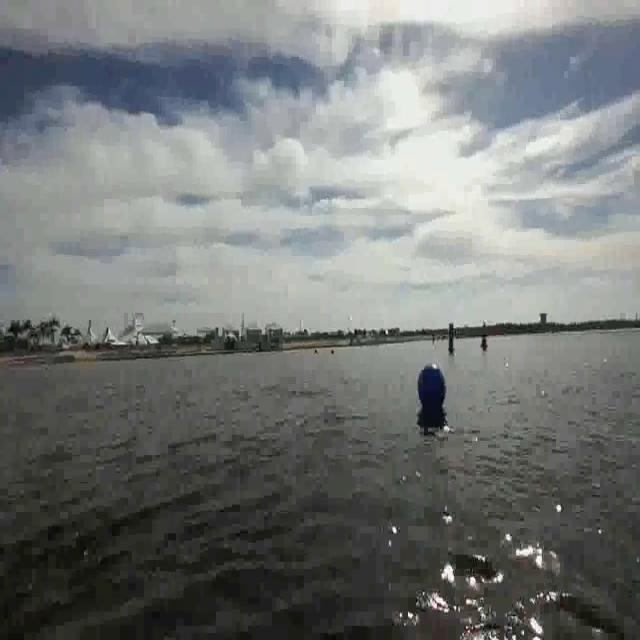blue-buoy: (418, 362, 446, 411)
green-column-buoy: (448, 324, 457, 354)
red-column-buoy: (482, 320, 489, 349)
